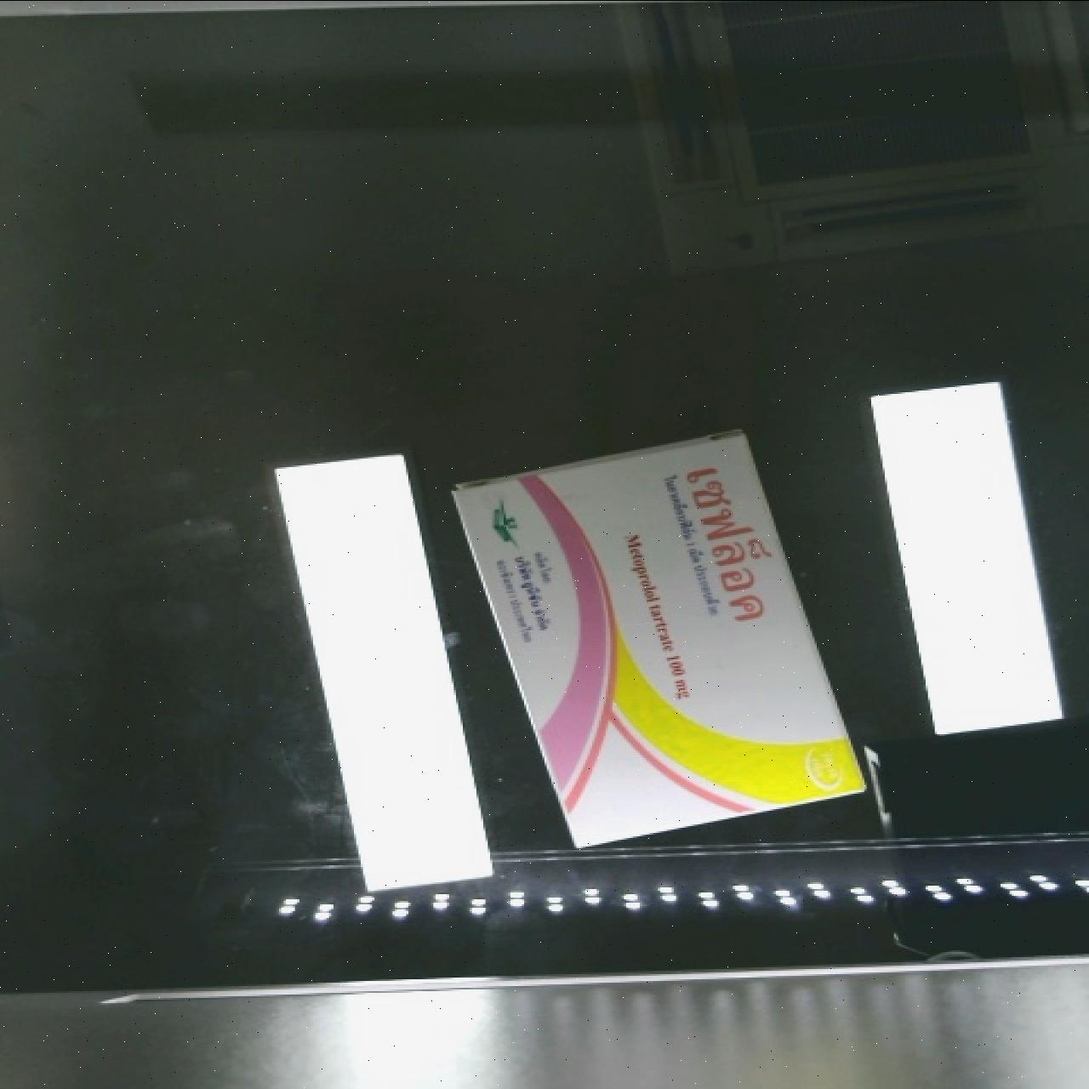medicine_label_obb: (655, 432, 793, 645)
